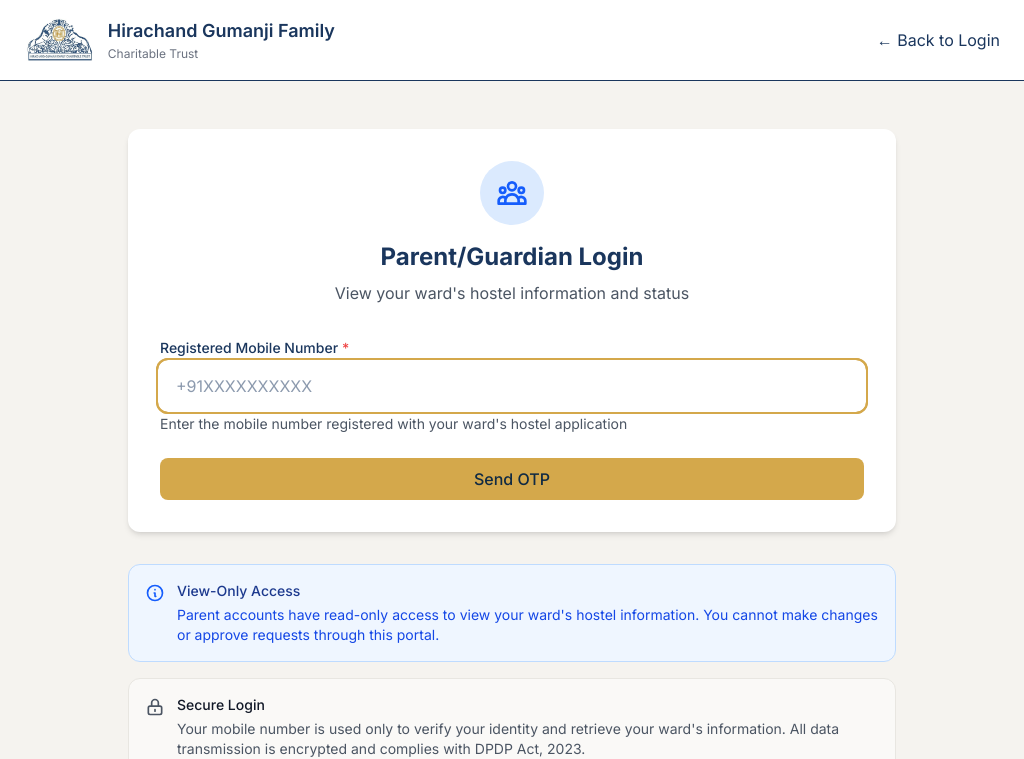
Task 8 - Parent/Guardian View-only Login › Entry Flow and OTP Verification › shows OTP screen after successful verification
Type "9876543210" into the field labelled "Registered Mobile Number*" at (512, 386), box top-left (160, 362), bottom-right (864, 410)
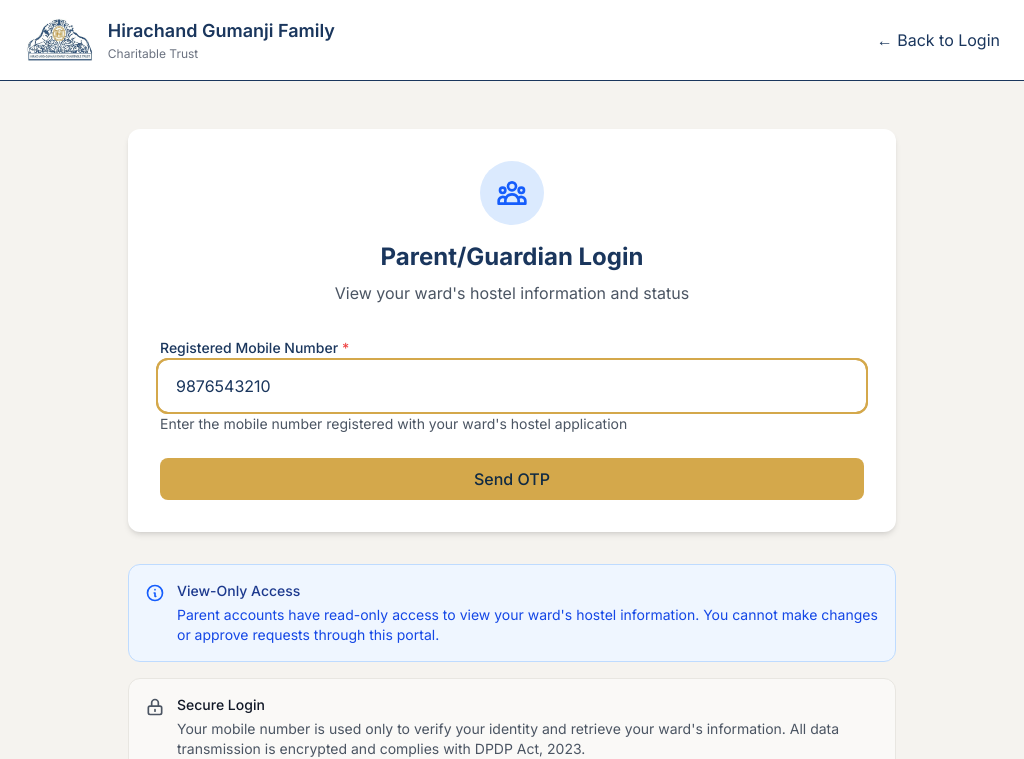
Click the button "Send OTP" at (512, 479), box top-left (160, 458), bottom-right (864, 500)
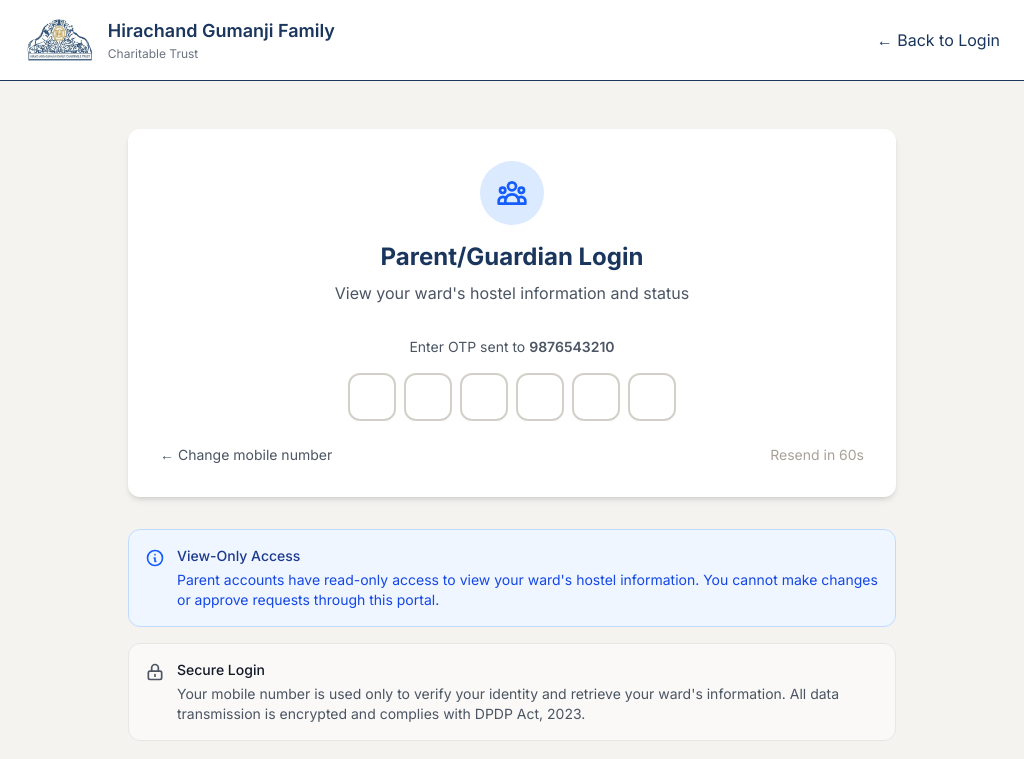
Check: the text "Enter OTP sent to 9876543210" is shown, box top-left (409, 338), bottom-right (615, 355)
Check: the number of password fields named "OTP digit" is 6, box top-left (348, 373), bottom-right (396, 421); top-left (404, 373), bottom-right (452, 421); top-left (460, 373), bottom-right (508, 421); top-left (516, 373), bottom-right (564, 421); top-left (572, 373), bottom-right (620, 421); top-left (628, 373), bottom-right (676, 421)
